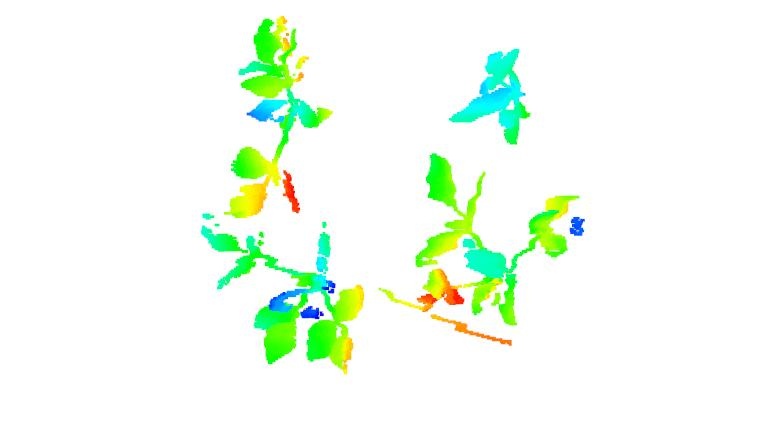mungbean: (413, 153, 582, 328), (201, 223, 365, 376), (218, 15, 333, 223), (446, 46, 534, 152)
